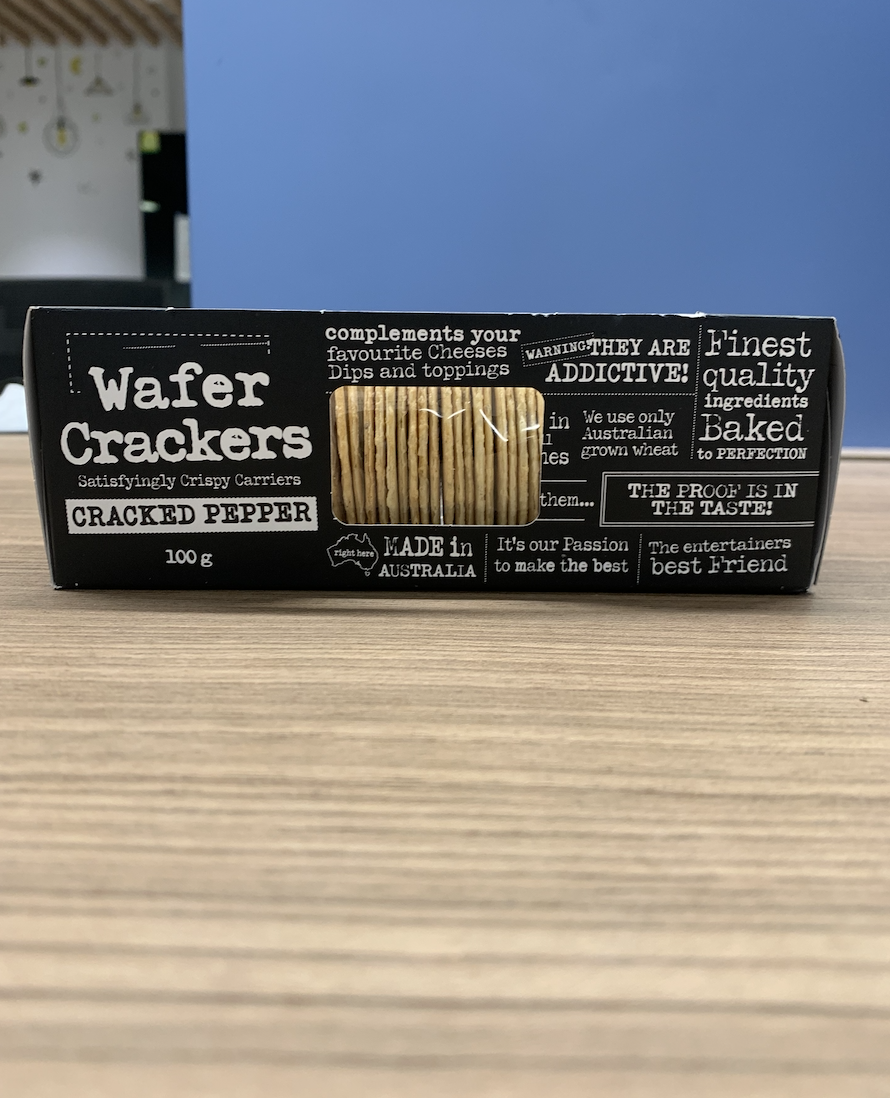crackers_150g: (47, 321, 825, 578)
